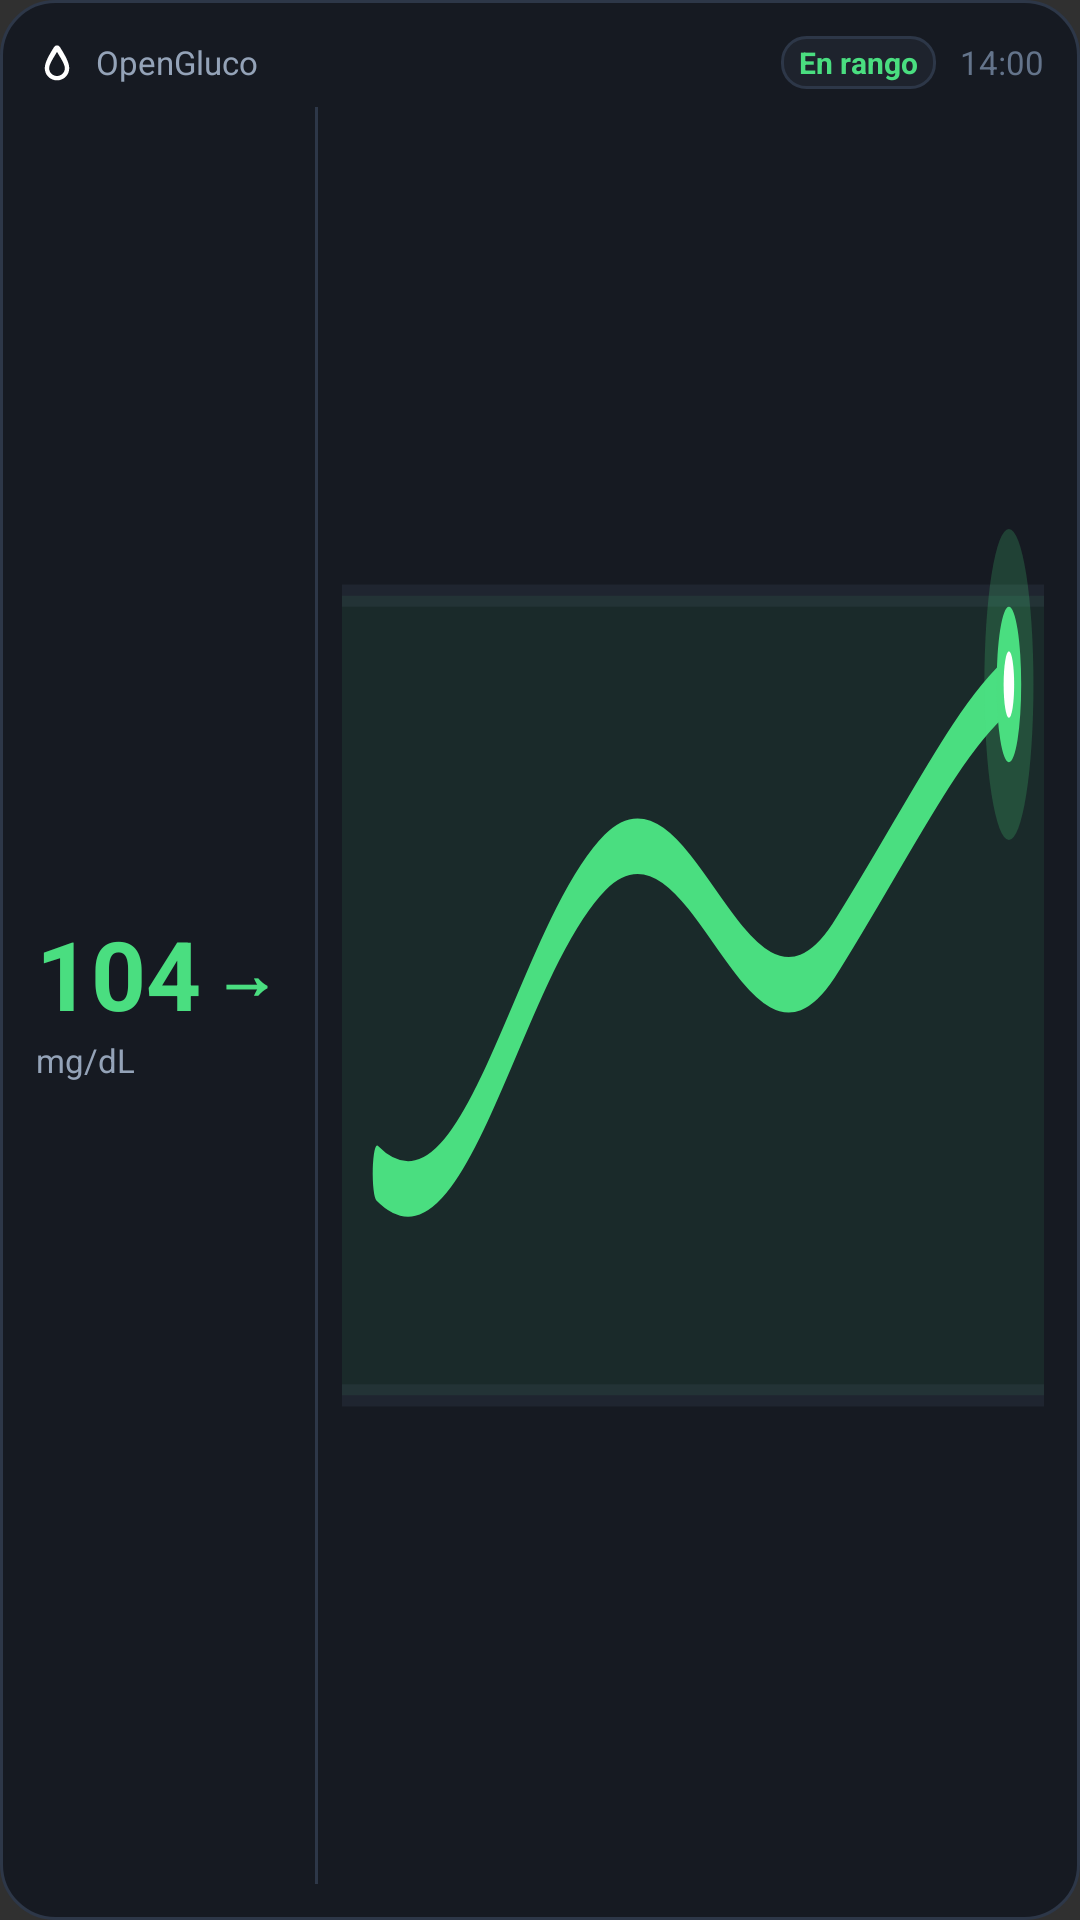

Where to tap for icons on this 1080×1920 app screen, as (x,y):
notification glucose: (57,63)
